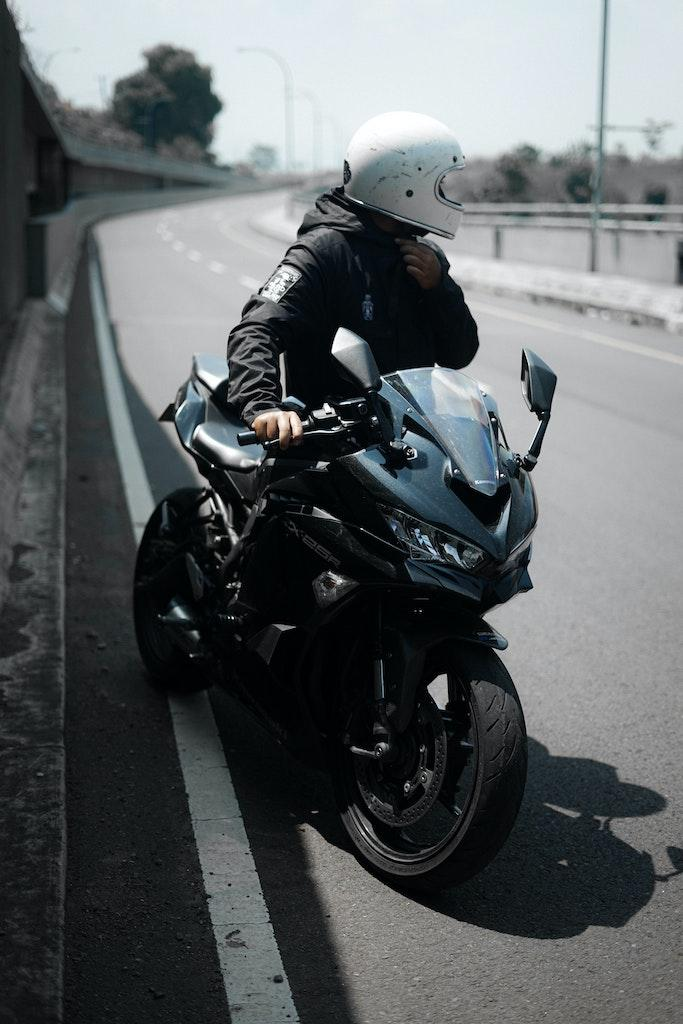helmet: (341, 109, 467, 242)
